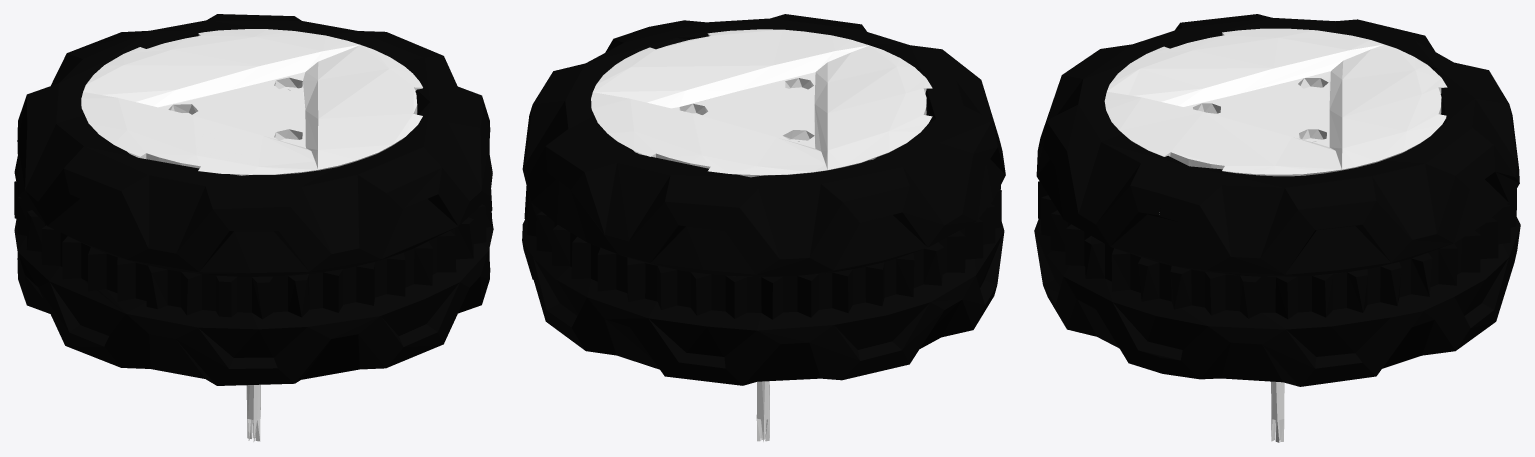
Rendered from wheel_optimal_z+.dae.
3 views of the same model, side by side, from view 1: azimuth 30°, elevation 25°; view 2: azimuth 150°, elevation 25°; view 3: azimuth 270°, elevation 25° (orthographic).
Parts seen in each view (by area): view 1: wheeltire, wheelcover, wheelshaft; view 2: wheeltire, wheelcover, wheelshaft; view 3: wheeltire, wheelcover, wheelshaft.
Part boxes in pixels (bbox=[...]): wheeltire: bbox=[14, 14, 493, 385]; wheelcover: bbox=[81, 29, 422, 175]; wheelshaft: bbox=[246, 384, 260, 441]; wheeltire: bbox=[522, 14, 1005, 385]; wheelcover: bbox=[591, 29, 932, 177]; wheelshaft: bbox=[756, 381, 769, 441]; wheeltire: bbox=[1034, 14, 1520, 386]; wheelcover: bbox=[1104, 28, 1447, 176]; wheelshaft: bbox=[1159, 212, 1284, 442].
Size of the model in its own units: 0.0963 by 0.0964 by 0.0747.
3 materials, 3 textured.
